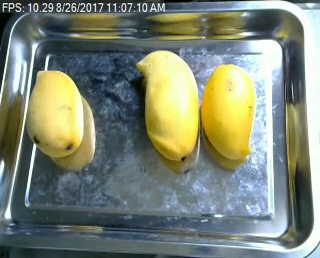Mango: (134, 50, 202, 160), (18, 64, 92, 158), (200, 56, 255, 162)
